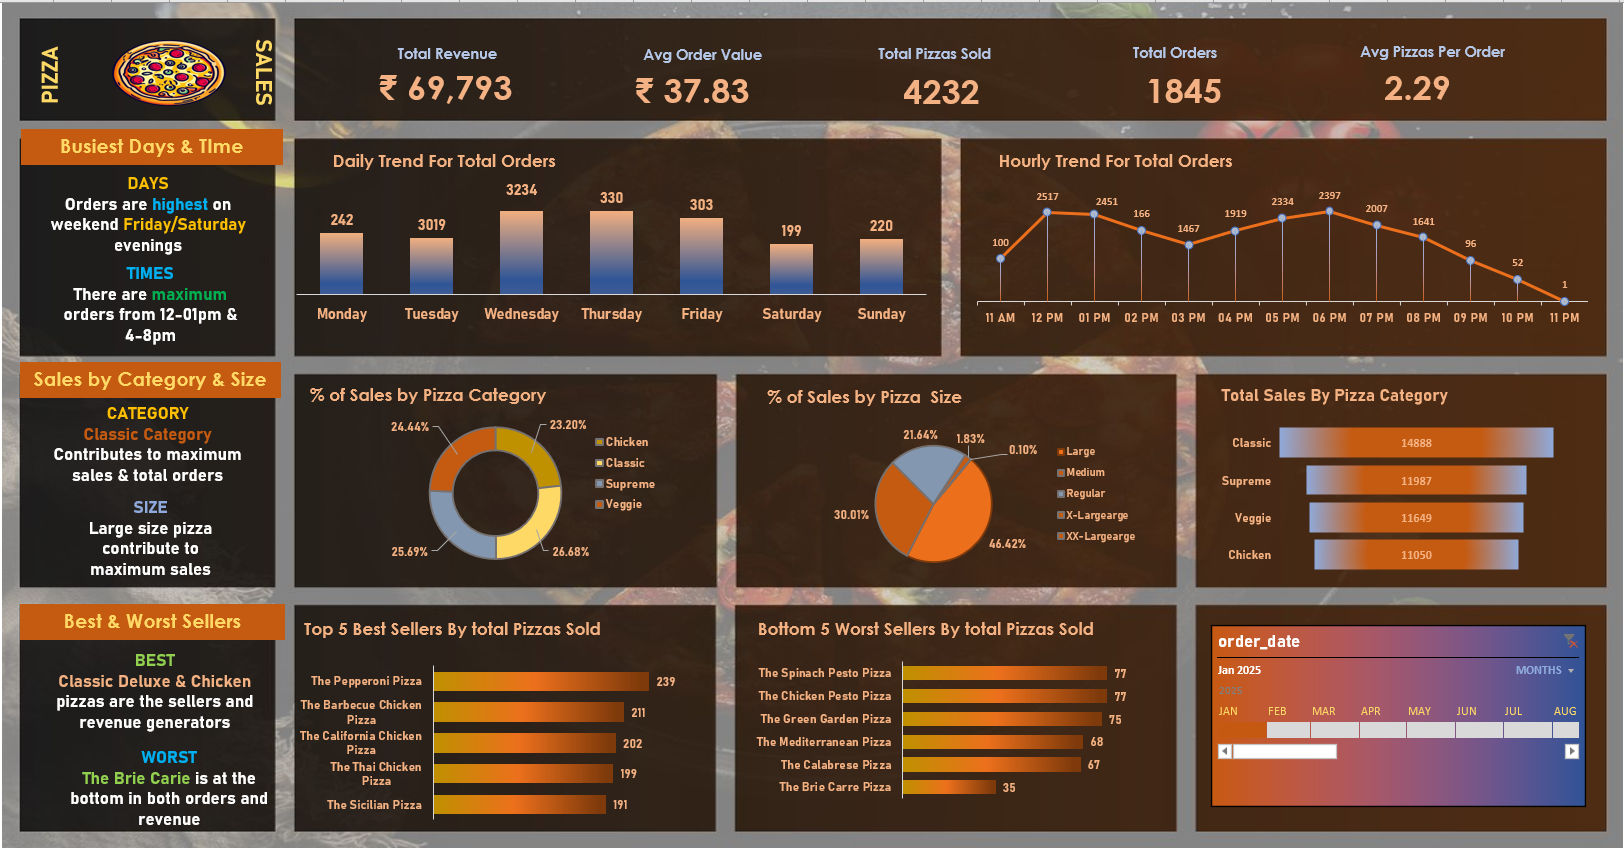

The page's visual inventory and layout, read from the dashboard file:
{"tool":"powerbi","page":{"name":"HOME","canvas":[1500,820],"ordinal":0},"visuals":[{"type":"cardVisual","fields":{"Data":["pizza_sales.Total Revenue","pizza_sales.Avg Order value","pizza_sales.Total Pizzas Sold","pizza_sales.Total Orders","pizza_sales.Avg Pizzas Per Order"]},"box":[262.9,65.7,1237.1,205.7],"z":0},{"type":"shape","box":[0,65,296,754],"z":1000},{"type":"image","box":[380.7,103.6,40,25],"z":2000},{"type":"image","box":[630.7,102.9,30,27.1],"z":3000},{"type":"image","box":[865.7,102.9,40,30.7],"z":4000},{"type":"image","box":[1090,102.9,57.1,30],"z":5000},{"type":"image","box":[1340,102.9,51.4,25.7],"z":6000},{"type":"shape","box":[0,0,1500,65],"z":7000},{"type":"textbox","box":[578.8,0,315,46.2],"z":8000},{"type":"textbox","box":[650.8,34.2,172.5,30.8],"z":9000},{"type":"image","box":[557.5,11.2,42.5,38.8],"z":10000},{"type":"shape","box":[292.9,252.9,570,327.1],"z":11000},{"type":"clusteredColumnChart","title":"Daily Trends Of Total Orders","fields":{"Category":["pizza_sales.Order Day"],"Y":["pizza_sales.Total Orders"]},"box":[308.8,286.2,542.5,280],"z":12000},{"type":"shape","box":[866.7,253.3,621.7,326.7],"z":13000},{"type":"areaChart","title":"Monthly Trends of Total Order","fields":{"Category":["pizza_sales.Order Month"],"Y":["pizza_sales.Total Orders"]},"box":[885,286.2,557.5,280],"z":14000},{"type":"shape","box":[292.9,580,410,240],"z":15000},{"type":"shape","box":[705,580,385,240],"z":16000},{"type":"shape","box":[1090,580,398.3,240],"z":17000},{"type":"donutChart","title":"% of Sales By Pizza Category","fields":{"Category":["pizza_sales.pizza_category"],"Y":["pizza_sales.Total Revenue"]},"box":[308.8,596.2,385,210],"z":18000},{"type":"donutChart","title":"% of Sales By Pizza Size","fields":{"Y":["pizza_sales.Total Revenue"],"Category":["pizza_sales.pizza_size"]},"box":[717.5,595,372.5,211.2],"z":19000},{"type":"funnel","title":"Total Pizzas Sold by Pizza Category","fields":{"Category":["pizza_sales.pizza_category"],"Y":["pizza_sales.Total Pizzas Sold"]},"box":[1107.5,595,335,211.2],"z":20000},{"type":"textbox","box":[7,249,282,45],"z":21000},{"type":"textbox","box":[12.9,298.6,270,236.4],"z":22000},{"type":"textbox","box":[7,543,281,45],"z":23000},{"type":"textbox","box":[12.9,595,270,197.9],"z":24000},{"type":"slicer","fields":{"Values":["pizza_sales.pizza_category"]},"box":[964.4,0,213.3,65.6],"z":25000},{"type":"slicer","fields":{"Values":["pizza_sales.order_date"]},"box":[1200,0,243.3,65.6],"z":26000},{"type":"pageNavigator","box":[7,108.6,281.3,50.1],"z":27000},{"type":"pageNavigator","box":[7,168.5,281.3,50.1],"z":27001},{"type":"image","box":[227,103.1,36.2,65.5],"z":27002},{"type":"image","box":[12.5,93.3,47.4,79.4],"z":27003},{"type":"image","box":[0,172.7,76.6,40.4],"z":27004}]}

Visuals, with their boxes on the page's 1500x820 design canvas (x1, y1, x2, y2). These are canvas units, not pixel positions in the 1624x850 screenshot, which may show the page scaled, cropped or inside an application window:
cardVisual - pizza_sales.Total Revenue x pizza_sales.Avg Order value: box(263, 66, 1500, 271)
shape: box(0, 65, 296, 819)
image: box(381, 104, 421, 129)
image: box(631, 103, 661, 130)
image: box(866, 103, 906, 134)
image: box(1090, 103, 1147, 133)
image: box(1340, 103, 1391, 129)
shape: box(0, 0, 1500, 65)
textbox: box(579, 0, 894, 46)
textbox: box(651, 34, 823, 65)
image: box(558, 11, 600, 50)
shape: box(293, 253, 863, 580)
"Daily Trends Of Total Orders" clusteredColumnChart: box(309, 286, 851, 566)
shape: box(867, 253, 1488, 580)
"Monthly Trends of Total Order" areaChart: box(885, 286, 1442, 566)
shape: box(293, 580, 703, 820)
shape: box(705, 580, 1090, 820)
shape: box(1090, 580, 1488, 820)
"% of Sales By Pizza Category" donutChart: box(309, 596, 694, 806)
"% of Sales By Pizza Size" donutChart: box(718, 595, 1090, 806)
"Total Pizzas Sold by Pizza Category" funnel: box(1108, 595, 1442, 806)
textbox: box(7, 249, 289, 294)
textbox: box(13, 299, 283, 535)
textbox: box(7, 543, 288, 588)
textbox: box(13, 595, 283, 793)
slicer - pizza_sales.pizza_category: box(964, 0, 1178, 66)
slicer - pizza_sales.order_date: box(1200, 0, 1443, 66)
pageNavigator: box(7, 109, 288, 159)
pageNavigator: box(7, 168, 288, 219)
image: box(227, 103, 263, 169)
image: box(12, 93, 60, 173)
image: box(0, 173, 77, 213)
